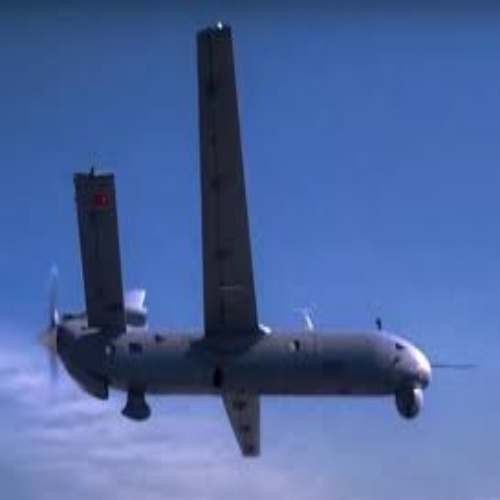uav275: (36, 22, 431, 456)
